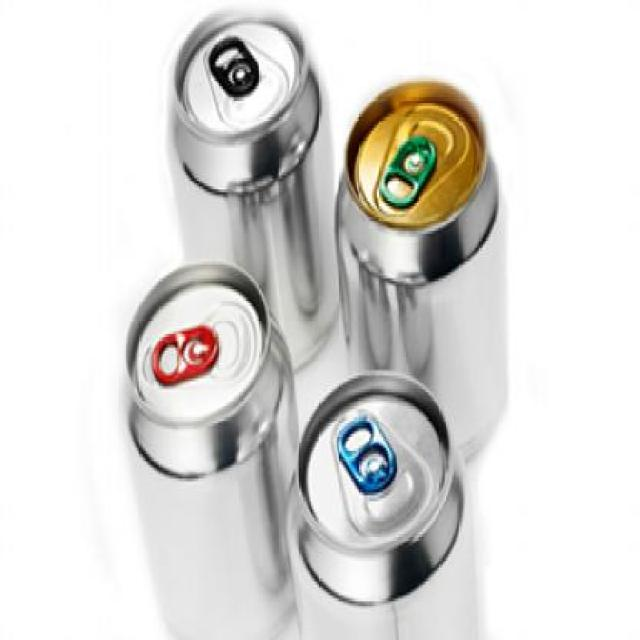metal: (121, 262, 301, 640), (334, 79, 508, 467), (164, 0, 342, 373), (286, 369, 486, 639)
